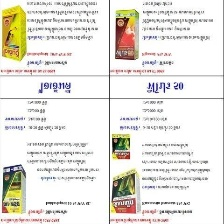book: (106, 166, 142, 217)
carton: (110, 6, 140, 63), (0, 3, 28, 62), (0, 159, 28, 216)
insecticide: (110, 130, 132, 162)
